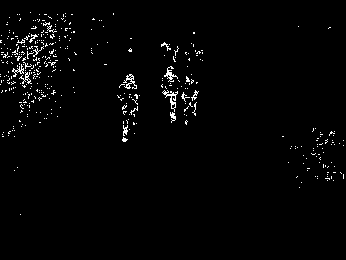person: (115, 71, 146, 145), (156, 64, 181, 123), (182, 71, 204, 124)
